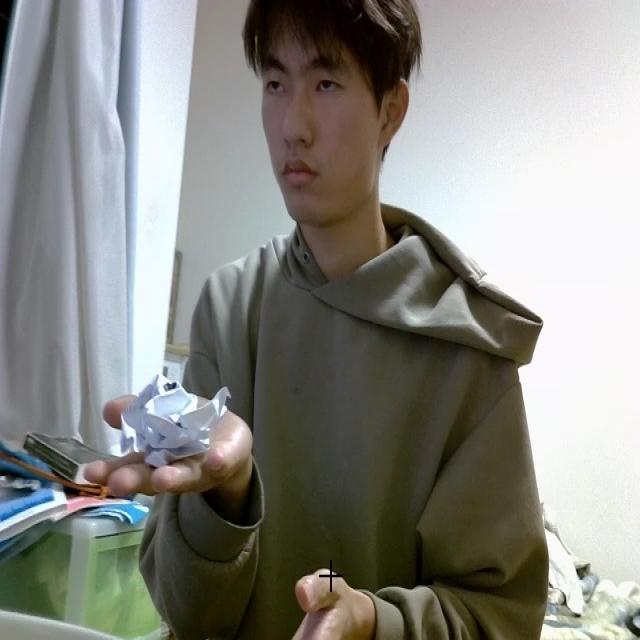paper: (118, 372, 231, 468)
